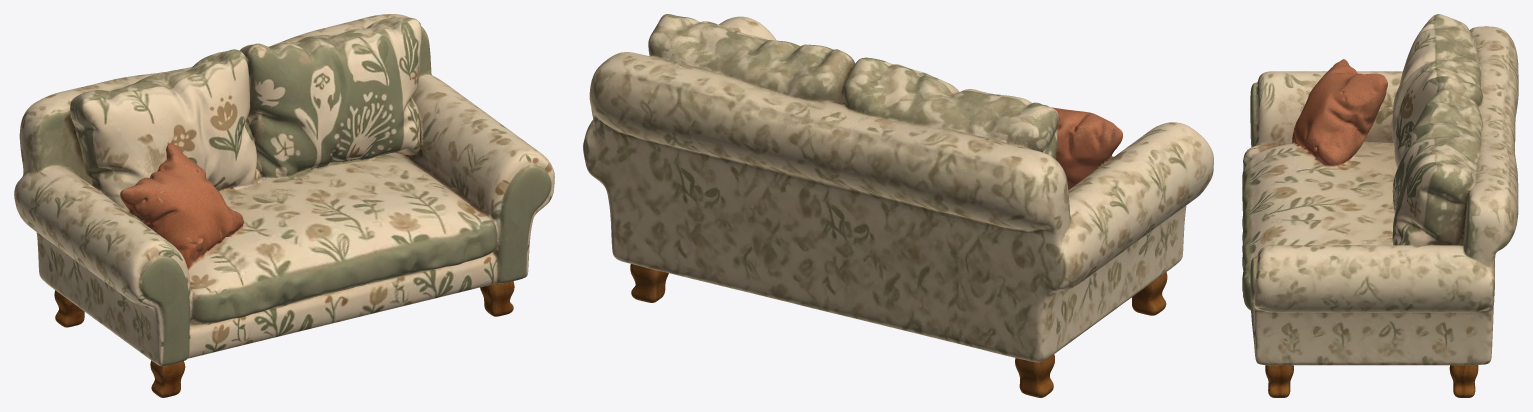
Rendered from sofa.glb.
The picture shows the model from 3 angles, left to right: view 1: azimuth 30°, elevation 25°; view 2: azimuth 150°, elevation 25°; view 3: azimuth 270°, elevation 25°; orthographic projection. The views are drawn at different scales.
Visible parts, largest first — view 1: mesh_node; view 2: mesh_node; view 3: mesh_node.
Boxes of the visible parts, <box> form: mesh_node: <box>14,14,554,397</box>; mesh_node: <box>583,14,1213,397</box>; mesh_node: <box>1242,14,1518,397</box>.
Size of the model in its own units: 1.9 by 1.03 by 1.1.
Materials: 1 (1 with a texture image).
